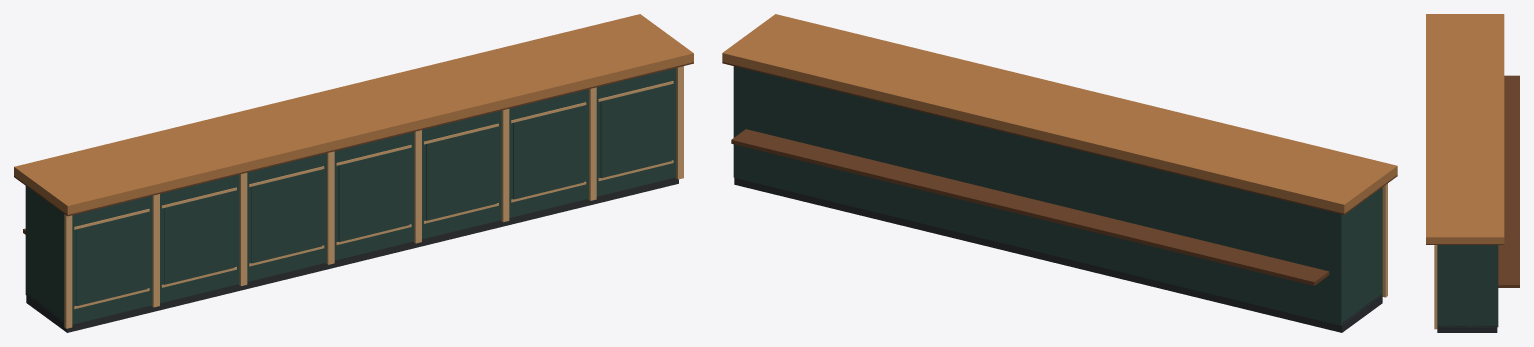
The model's file is front-counter.glb.
3 views of the same model, side by side, from view 1: azimuth 30°, elevation 25°; view 2: azimuth 150°, elevation 25°; view 3: azimuth 270°, elevation 25° (orthographic). The views are drawn at different scales.
Visible parts, largest first — view 1: front-counter, top, body, kick; view 2: body, top, front-counter, kick; view 3: top, body, front-counter, kick.
Boxes of the visible parts, x1=… form: front-counter: x1=14, y1=62, x2=693, y2=328; top: x1=14, y1=14, x2=693, y2=214; body: x1=25, y1=68, x2=676, y2=324; kick: x1=26, y1=177, x2=678, y2=332; body: x1=733, y1=66, x2=1382, y2=325; top: x1=722, y1=14, x2=1397, y2=213; front-counter: x1=722, y1=62, x2=1397, y2=297; kick: x1=734, y1=178, x2=1382, y2=332; top: x1=1426, y1=14, x2=1504, y2=243; body: x1=1437, y1=245, x2=1498, y2=327; front-counter: x1=1426, y1=75, x2=1519, y2=329; kick: x1=1437, y1=325, x2=1497, y2=332.
Bounding box in the file's own units: 5.12 × 1.05 × 0.91.
